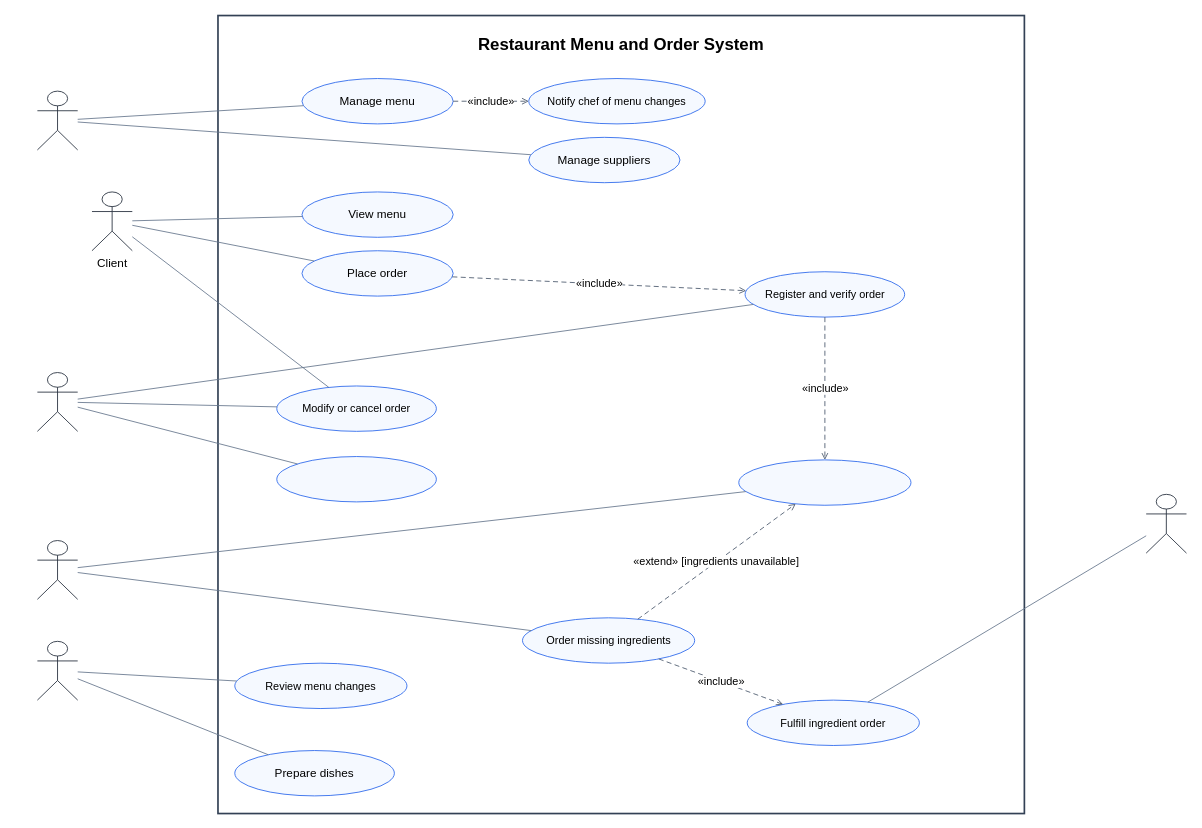
Some shapes in this 1202 by 828 pixel diagram are drawn without their labels. The shapes that lost their labels are listed below. From the top down, each one's centre as x and y in pixels, then its label:
the point at 57,120: Boss
the point at 57,401: Waiter
the point at 356,479: Serve dish and update client
the point at 824,482: Check ingredient availability
the point at 1165,523: Supplier
the point at 57,569: Storage organizer
the point at 57,670: Chef
